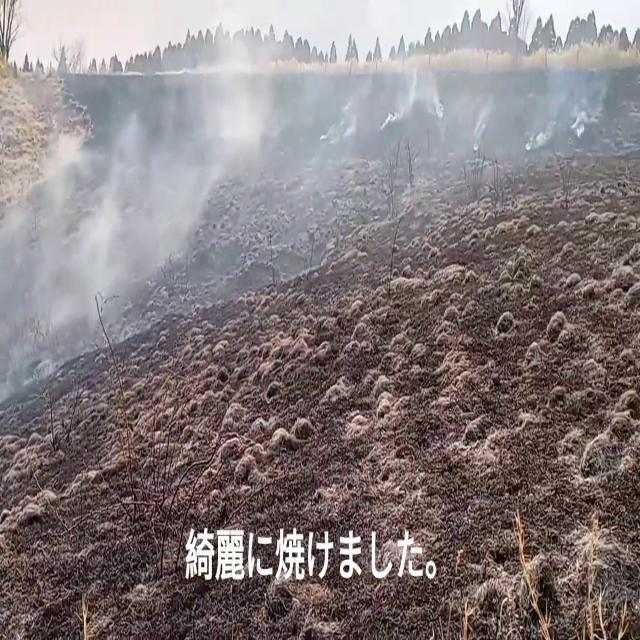Smoke: (0, 7, 300, 426), (297, 30, 603, 188)
